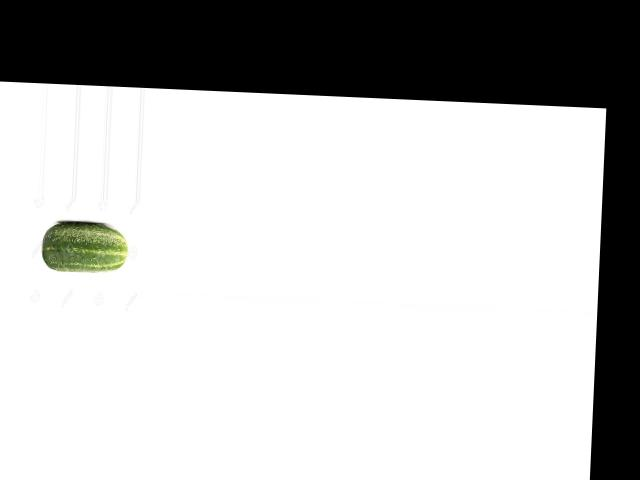cucumber: (39, 220, 127, 273)
